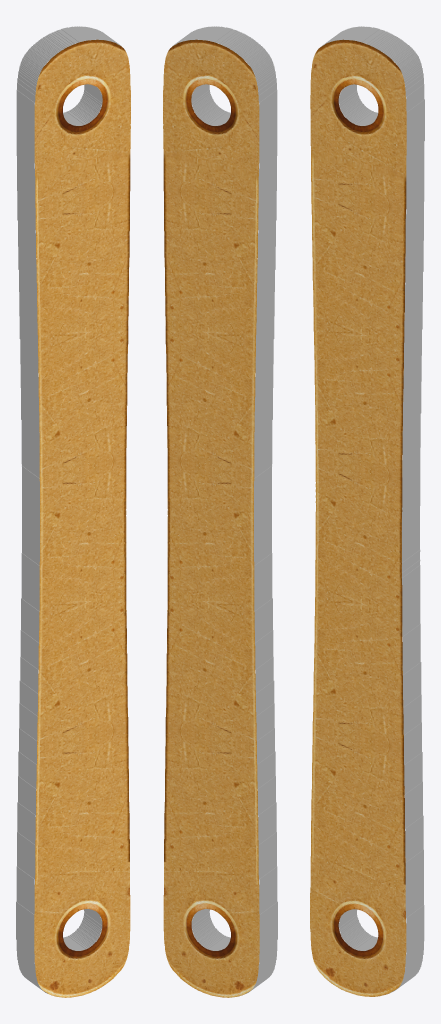
The model's file is UpperLeg.glb.
3 views of the same model, side by side, from view 1: azimuth 30°, elevation 25°; view 2: azimuth 150°, elevation 25°; view 3: azimuth 330°, elevation 25° (orthographic).
Parts seen in each view (by area): view 1: PaperVolume; view 2: PaperVolume; view 3: PaperVolume.
Boxes of the visible parts, x1,y1,x2,y2 form: PaperVolume: (16,26,130,997); PaperVolume: (163,26,277,997); PaperVolume: (310,26,424,996).
Bounding box in the file's own units: 0.2543 × 2.32 × 0.08.
3 materials, 2 textured.
